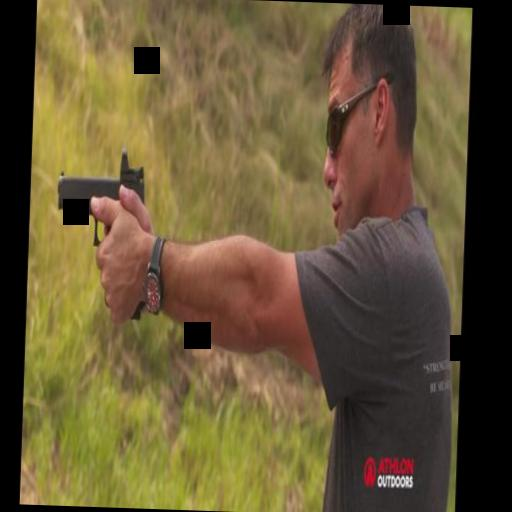Handgun: (48, 153, 152, 320)
